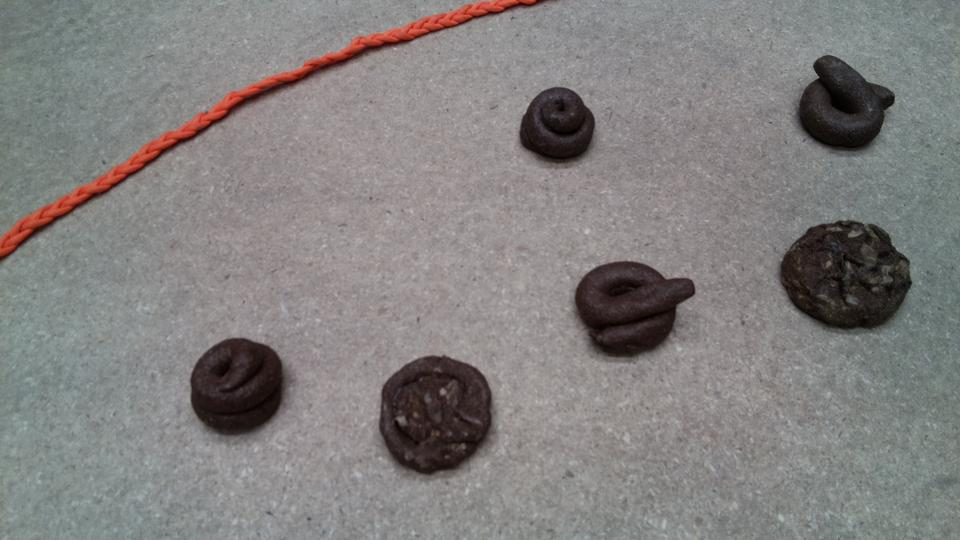poop: (775, 215, 916, 335), (372, 349, 499, 477), (572, 257, 699, 361), (187, 332, 289, 441), (795, 52, 897, 154), (515, 84, 601, 163)
rope: (1, 1, 557, 267)
